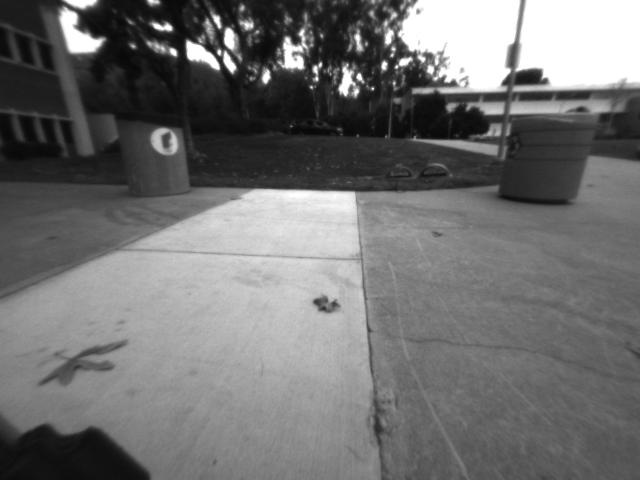trashcan: (495, 96, 603, 216), (104, 101, 204, 208)
